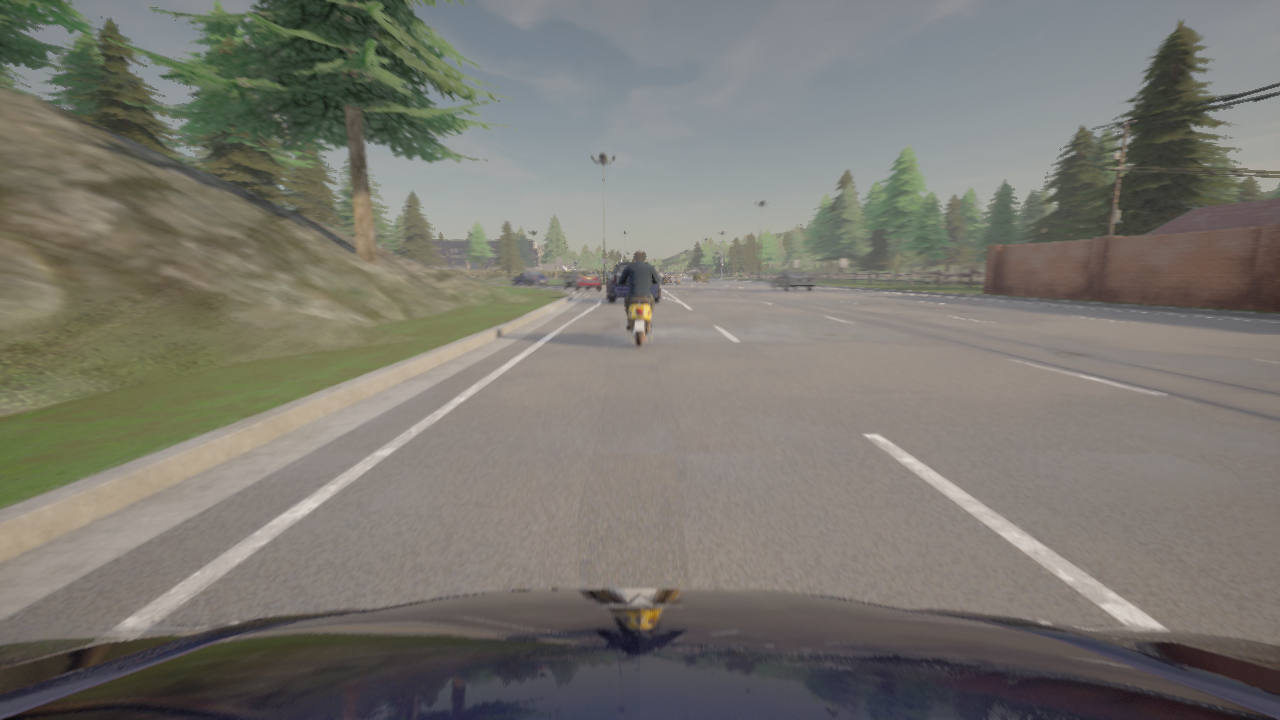cyclist: (0, 588, 1279, 719), (616, 272, 663, 346), (606, 260, 659, 302), (770, 271, 816, 291), (562, 270, 601, 291), (511, 271, 548, 287), (692, 267, 710, 284), (662, 271, 679, 284)
